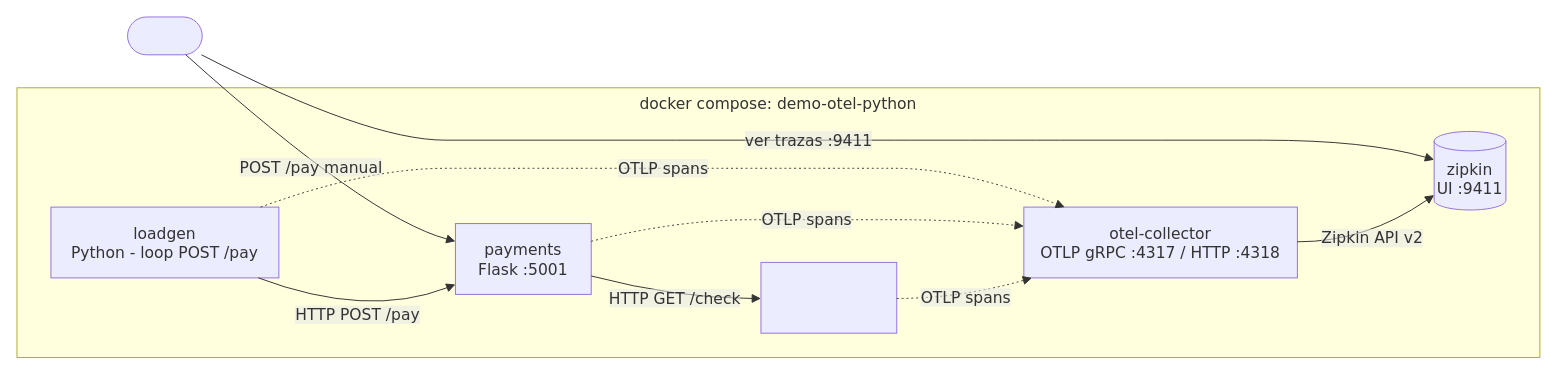
Image size: 1557x374. Some labels were removed from this diagram. The shapes that lost their labels are listed below. From the top down, each one's box as (x1, y1, x2, y2) in pixels, then its label:
(127, 16, 202, 55): Usuario
(760, 261, 897, 333): inventory Flask :5002
